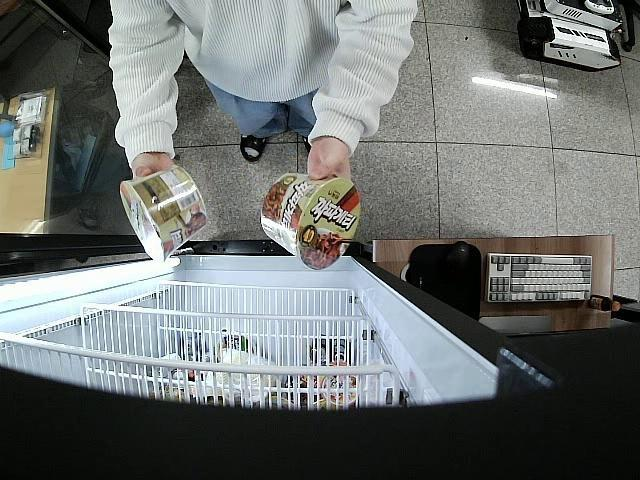03_chapagetti_L: (261, 172, 362, 271), (120, 166, 210, 266)
